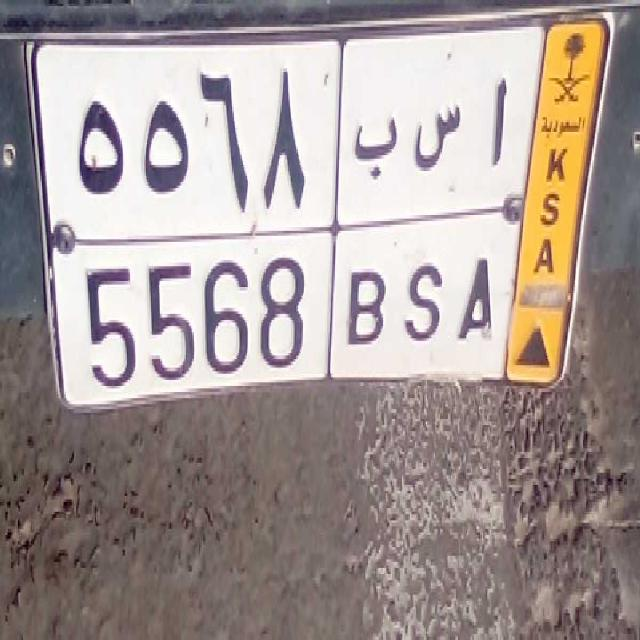license_plate: (72, 224, 516, 393)
